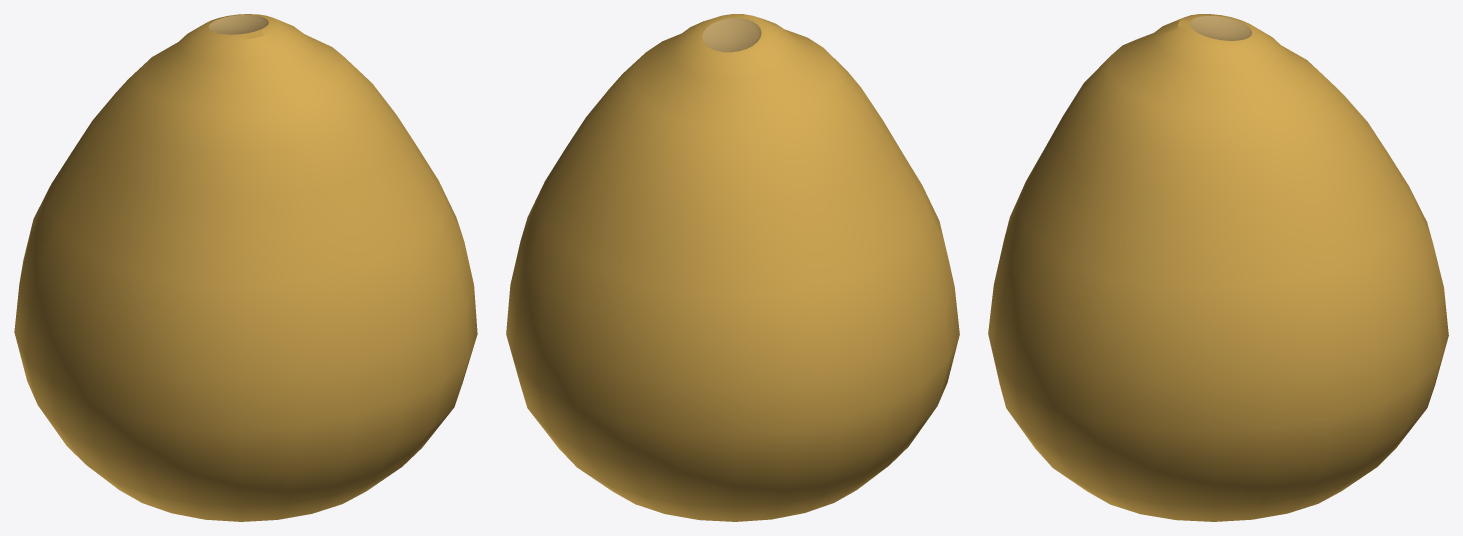
The model's file is pomelo.fbx.
3 views of the same model, side by side, from view 1: azimuth 30°, elevation 25°; view 2: azimuth 150°, elevation 25°; view 3: azimuth 270°, elevation 25° (orthographic).
Visible parts, largest first — view 1: Sphere; view 2: Sphere; view 3: Sphere.
Boxes of the visible parts, x1,y1,x2,y2 form: Sphere: (14,14,477,521); Sphere: (506,14,959,521); Sphere: (988,14,1448,521).
Bounding box in the file's own units: 36.12 × 40.92 × 36.72.
